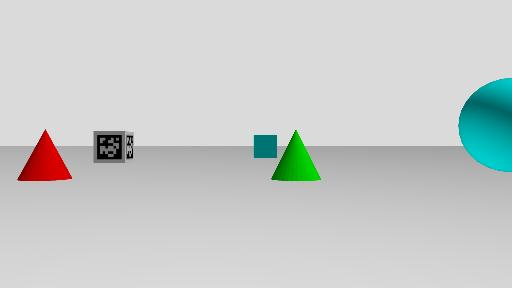green_cone: (270, 129, 322, 182)
red_cone: (16, 129, 74, 182)
